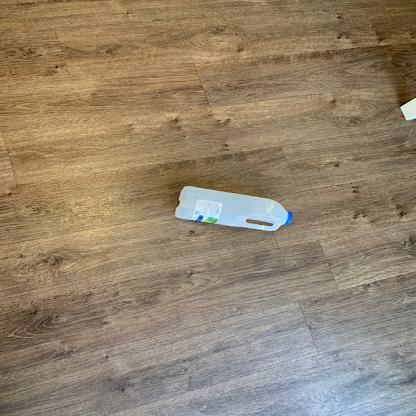trash: (170, 184, 296, 235)
